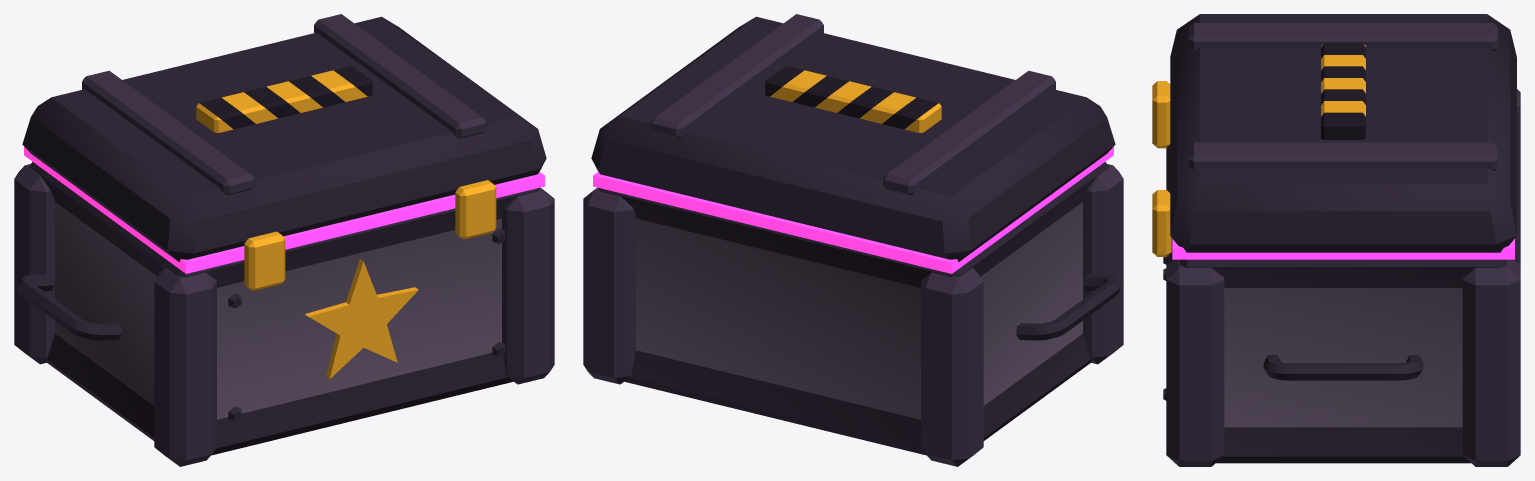
Rendered from crate__lower.glb.
3 views of the same model, side by side, from view 1: azimuth 30°, elevation 25°; view 2: azimuth 150°, elevation 25°; view 3: azimuth 270°, elevation 25° (orthographic). The views are drawn at different scales.
Parts seen in each view (by area): view 1: Body; view 2: Body; view 3: Body.
Boxes of the visible parts, x1=… form: Body: x1=14, y1=14, x2=554, y2=466; Body: x1=583, y1=14, x2=1123, y2=466; Body: x1=1152, y1=14, x2=1520, y2=466.
Size of the model in its own units: 0.9073 by 0.4975 by 0.572.
